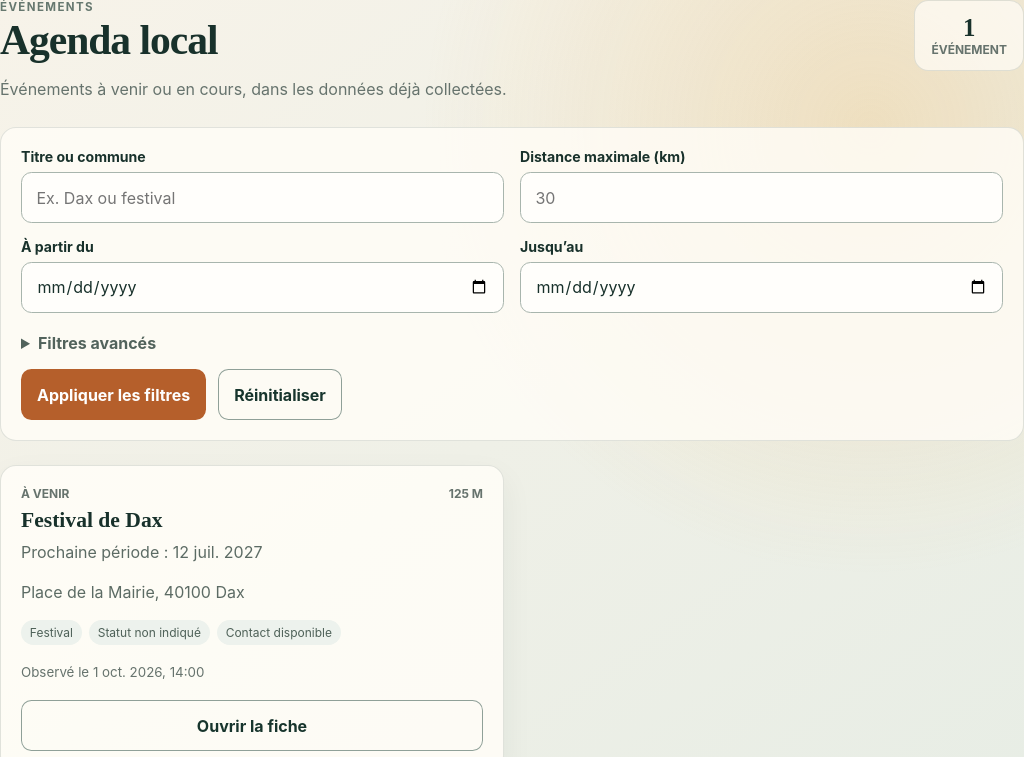
Scenario: event catalogue › rejects an inverted date range before making a request
Expected: the heading "Festival de Dax" is shown, [21,508,162,532]
Type "2027-08-01" into the date field labelled "À partir du". click: (262, 287)
box: [21,262,504,313]
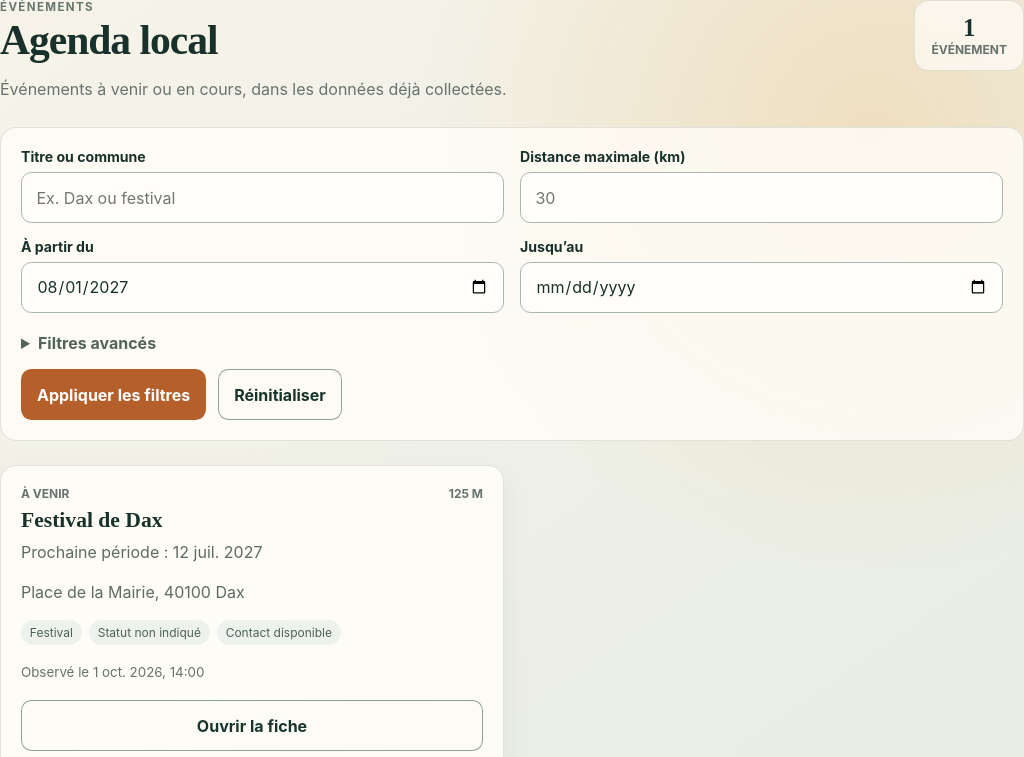
Type "2027-07-01" into the date field labelled "Jusqu’au". click: (762, 287)
box: [520,262,1003,313]
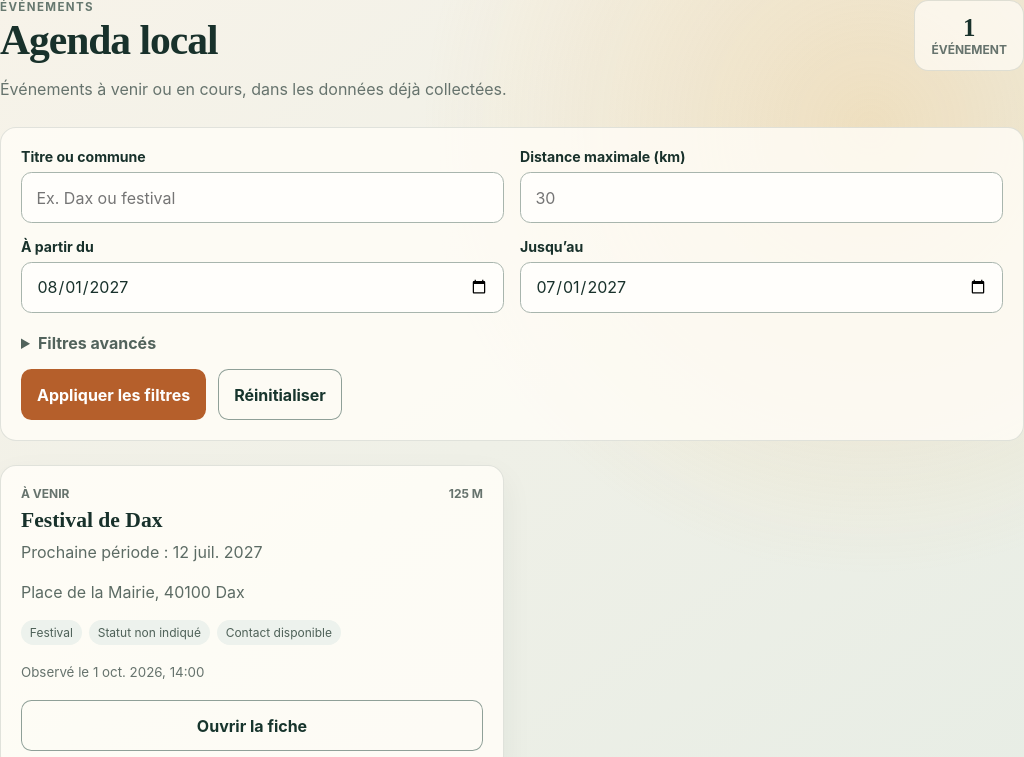
Click the button "Appliquer les filtres". click: (114, 394)
box: [21,369,206,420]
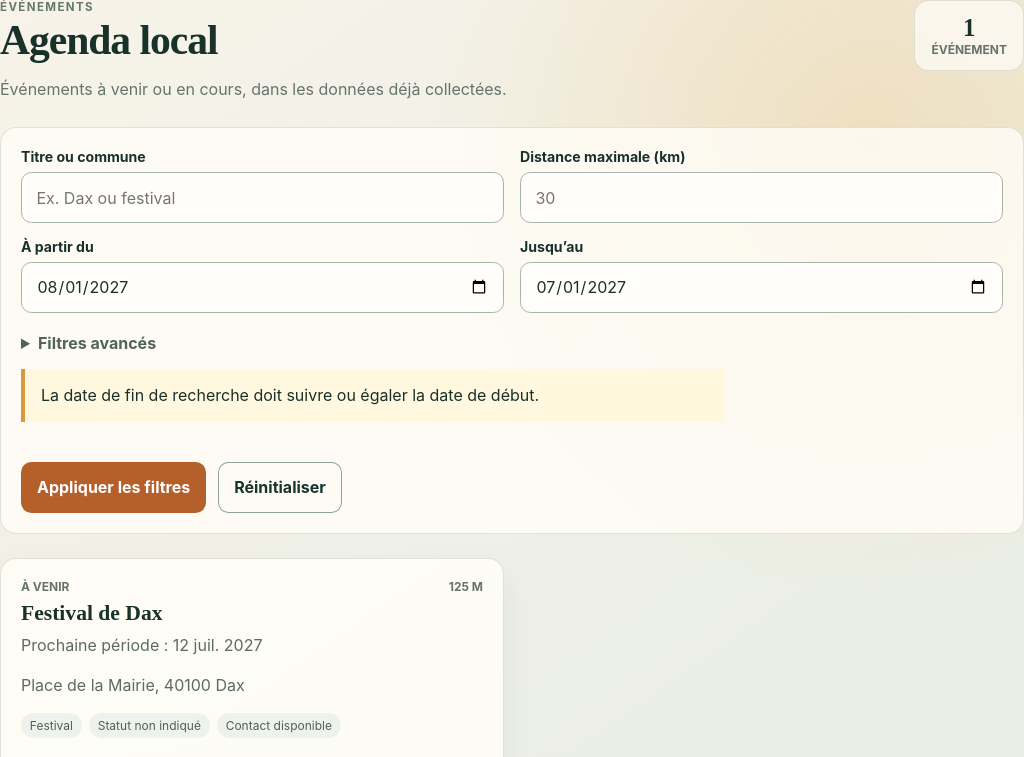
Result: the message reads "La date de fin de recherche doit suivre ou égaler la date de début." at [41,385,539,405]
